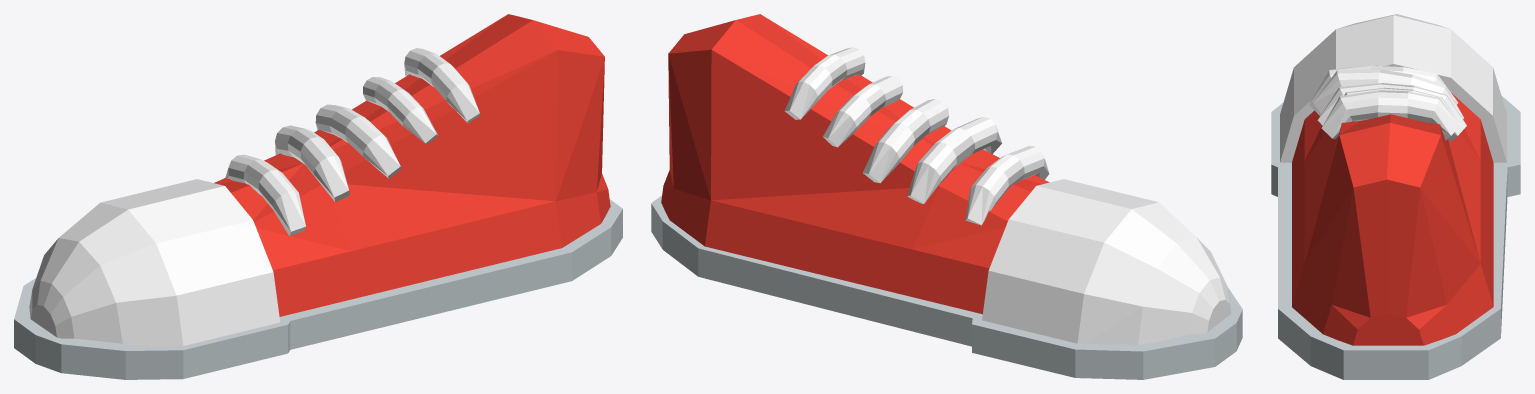
Rendered from group1631947829_lev3.glb.
3 views of the same model, side by side, from view 1: azimuth 30°, elevation 25°; view 2: azimuth 150°, elevation 25°; view 3: azimuth 270°, elevation 25° (orthographic). The views are drawn at different scales.
Parts seen in each view (by area): view 1: group1631947829_lev3; view 2: group1631947829_lev3; view 3: group1631947829_lev3.
Boxes of the visible parts, box(x1,y1,x2,y2) form: group1631947829_lev3: box(14, 14, 622, 379); group1631947829_lev3: box(651, 14, 1242, 379); group1631947829_lev3: box(1271, 14, 1520, 379).
Bounding box in the file's own units: 2.09 × 0.761 × 0.7689.
